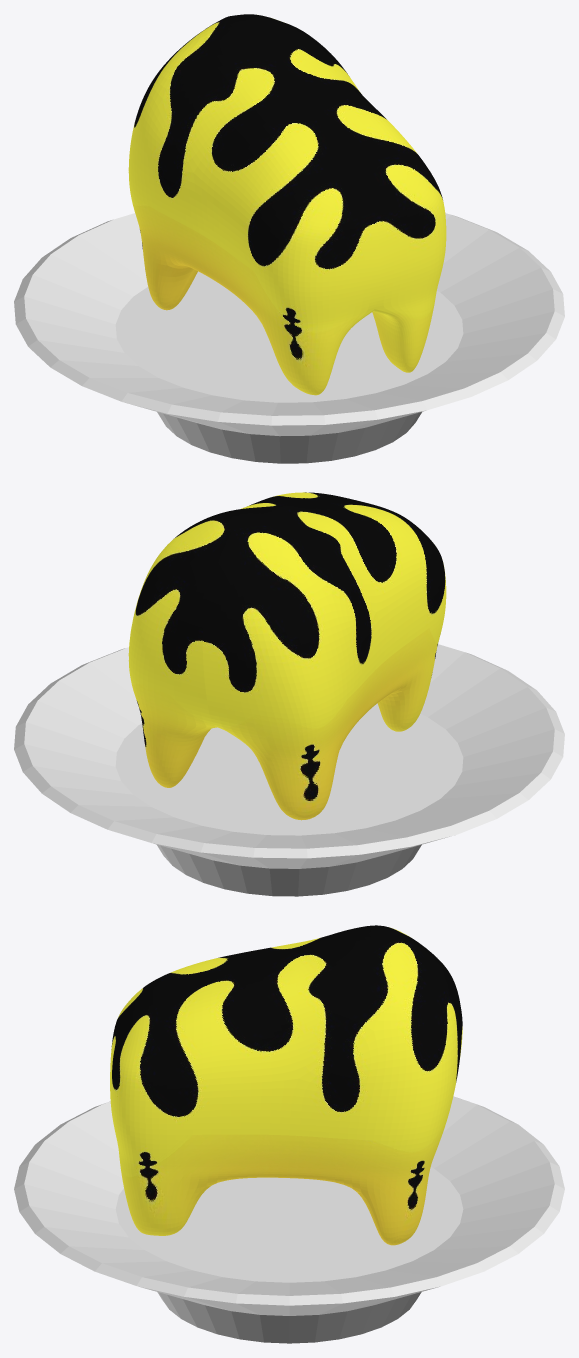
The model's file is tigerStatue.glb.
3 views of the same model, one above another, from view 1: azimuth 30°, elevation 25°; view 2: azimuth 150°, elevation 25°; view 3: azimuth 270°, elevation 25° (orthographic).
Parts seen in each view (by area): view 1: 立方体, 円; view 2: 立方体, 円; view 3: 立方体, 円.
Part boxes in pixels (box(x1,y1,x2,y2)): 立方体: box(128, 14, 446, 395); 円: box(14, 213, 564, 463); 立方体: box(128, 492, 446, 820); 円: box(14, 644, 564, 896); 立方体: box(110, 925, 462, 1245); 円: box(14, 1096, 564, 1343).
Size of the model in its own units: 2 by 1.42 by 2.
2 materials, 1 textured.
